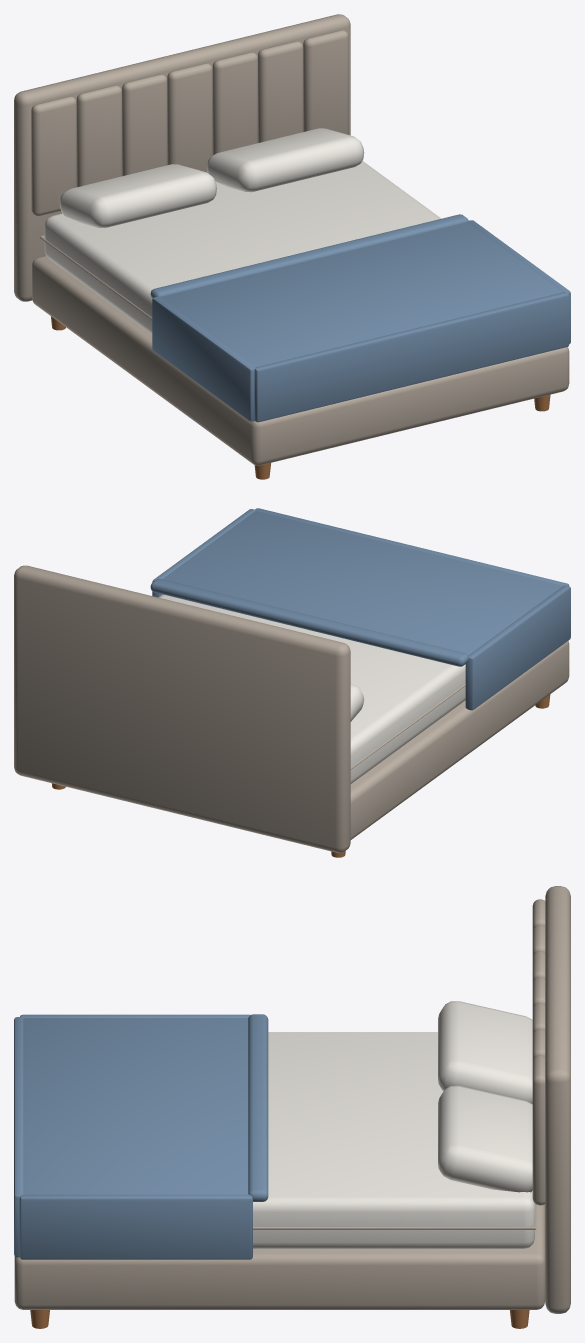
The model's file is BedDouble.fbx.
3 renders of one model, top to bottom at view 1: azimuth 30°, elevation 25°; view 2: azimuth 150°, elevation 25°; view 3: azimuth 270°, elevation 25°, orthographic. The views are drawn at different scales.
Parts seen in each view (by area): view 1: BedDouble_Mesh; view 2: BedDouble_Mesh; view 3: BedDouble_Mesh.
Boxes of the visible parts, x1,y1,x2,y2 form: BedDouble_Mesh: (14,14,570,479); BedDouble_Mesh: (14,508,570,857); BedDouble_Mesh: (14,886,570,1328).
Size of the model in its own units: 1.76 by 1.15 by 2.17.
